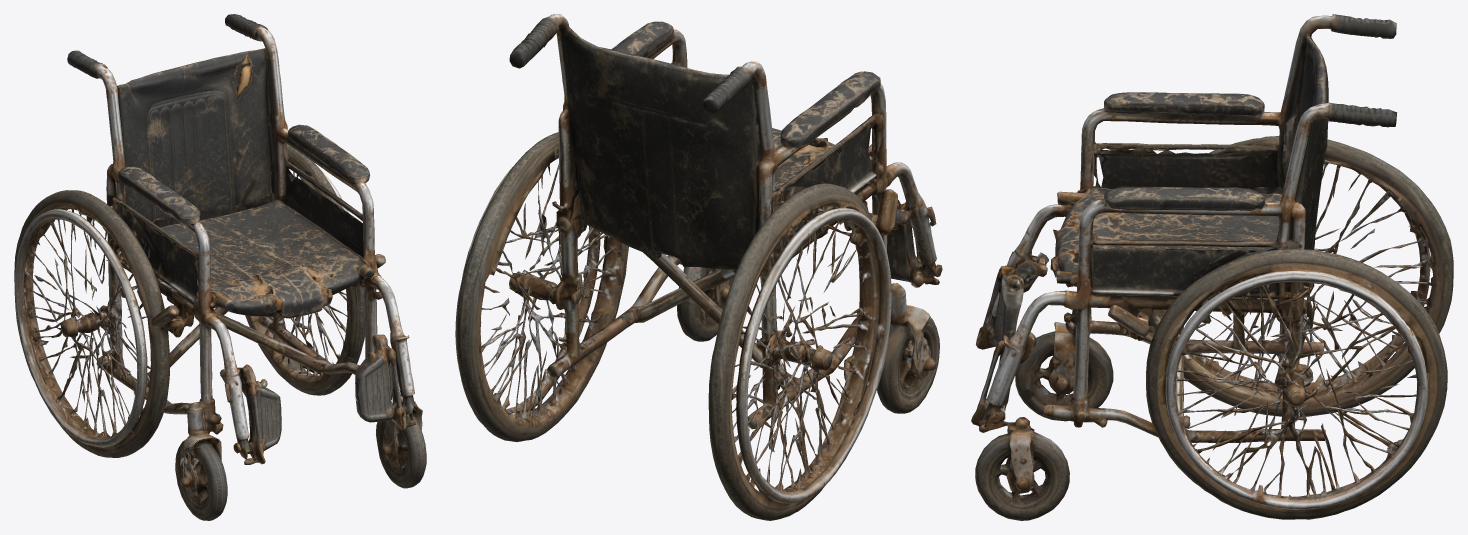
File: Wheelchair.fbx
The picture shows the model from 3 angles, left to right: view 1: azimuth 30°, elevation 25°; view 2: azimuth 150°, elevation 25°; view 3: azimuth 270°, elevation 25°; orthographic projection. The views are drawn at different scales.
Visible parts, largest first — view 1: texture_mapping; view 2: texture_mapping; view 3: texture_mapping.
Part boxes in pixels (box(x1,y1,x2,y2)): texture_mapping: box(14, 14, 426, 520); texture_mapping: box(455, 14, 942, 520); texture_mapping: box(971, 14, 1453, 520).
Bounding box in the file's own units: 0.7058 × 0.9992 × 0.9541.
Materials: 1 (1 with a texture image).
